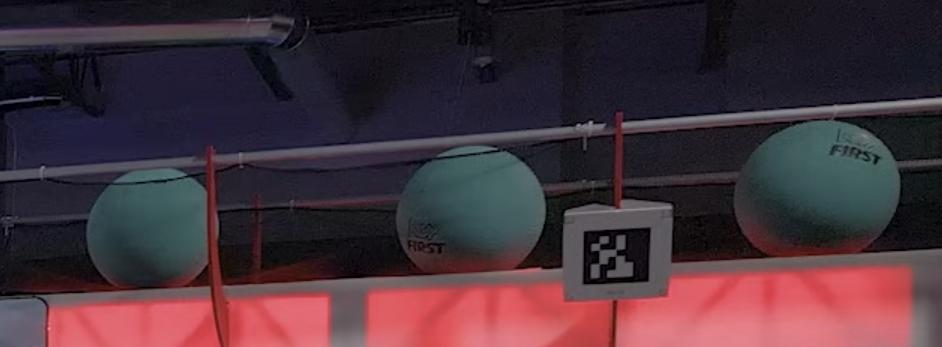algae: (733, 120, 899, 257), (397, 145, 546, 274), (87, 168, 218, 289)
